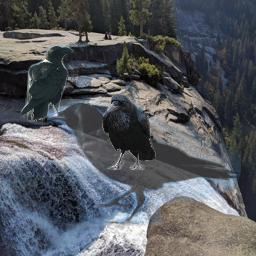Crow: (47, 99, 241, 226), (20, 45, 74, 122), (102, 93, 156, 170)
